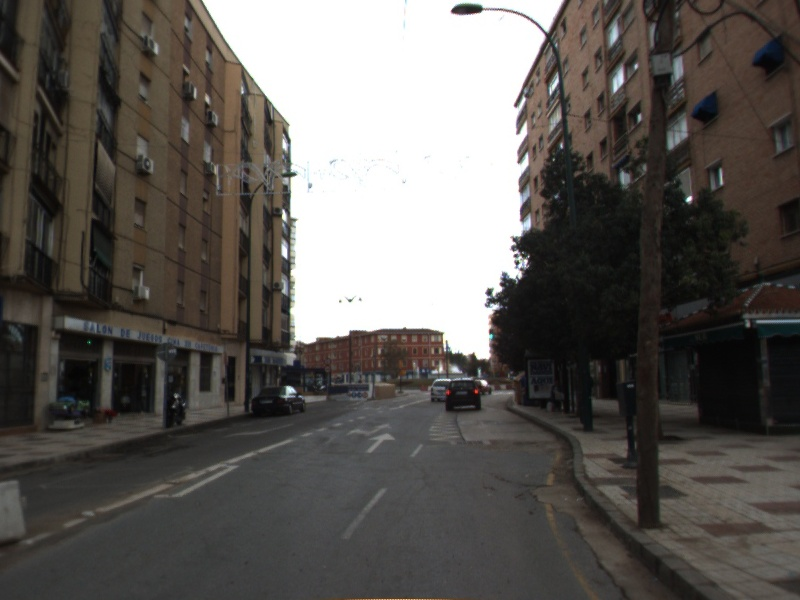STRAIGHT: (363, 431, 397, 455)
STRAIGHT_LEFT: (343, 420, 395, 438)
